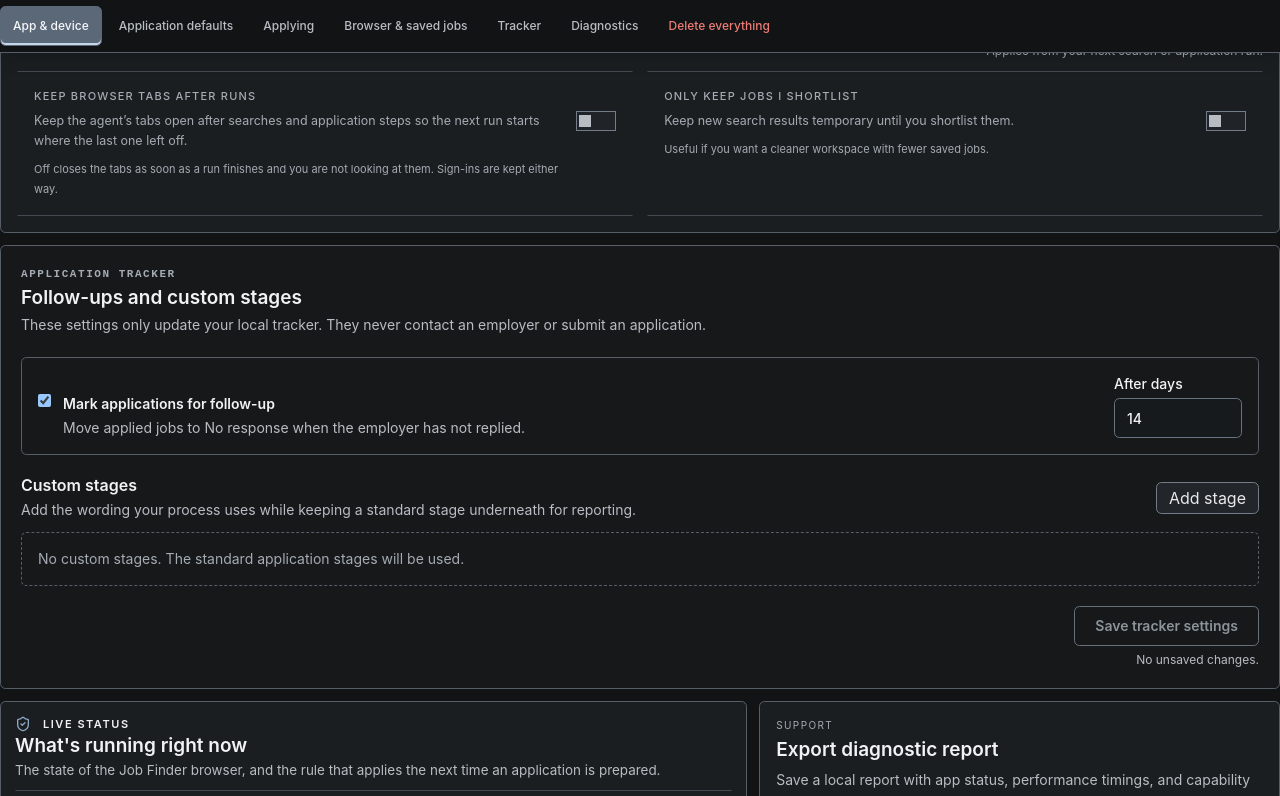
Test: Settings save ownership › links the Tracker section into the same save ownership as every other section
(page scrolled)
Click the checkbox labelled "Mark applications for follow-up": point(44, 401) [38,394,51,407]
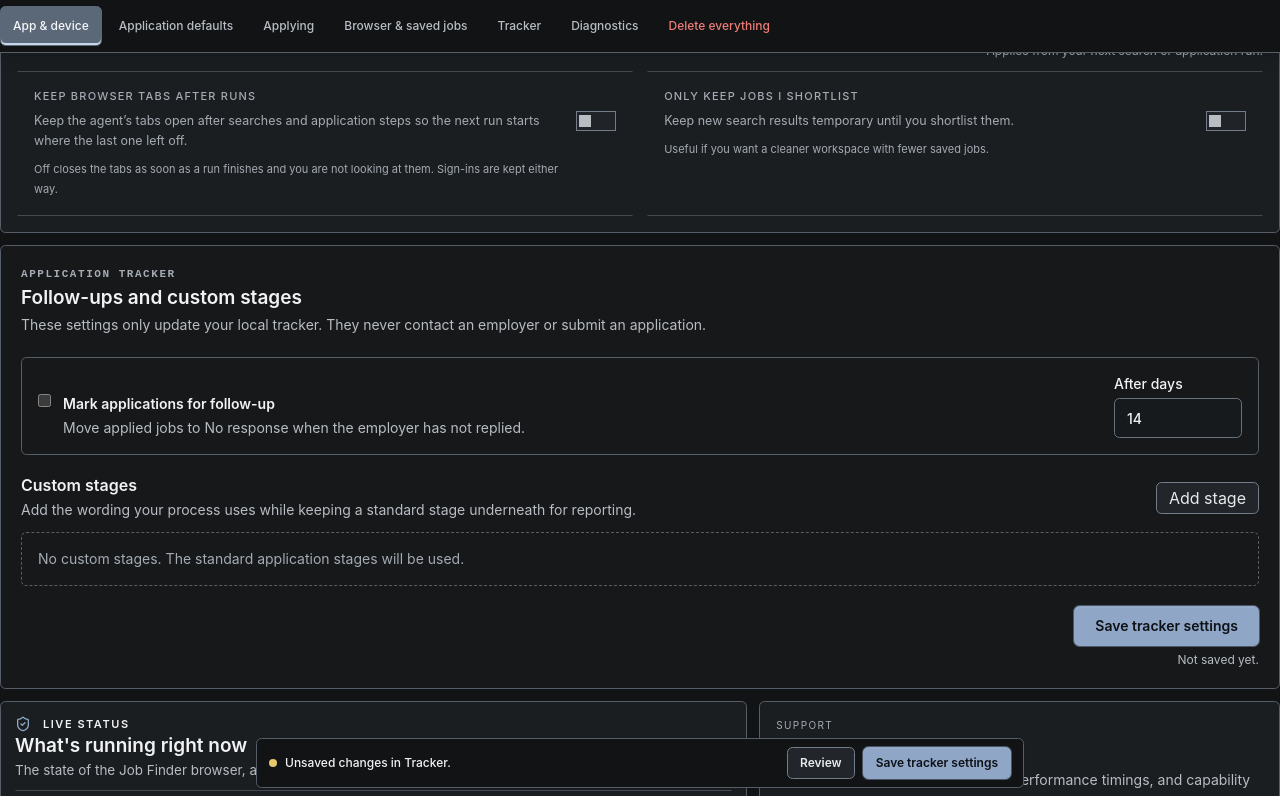
Expected: the message "Unsaved changes in Tracker. Review Save tracker settings" is shown, [256,738,1024,788]
Click the button "Save tracker settings" in the row of "Unsaved changes in Tracker.": point(937, 763) [863,747,1011,779]
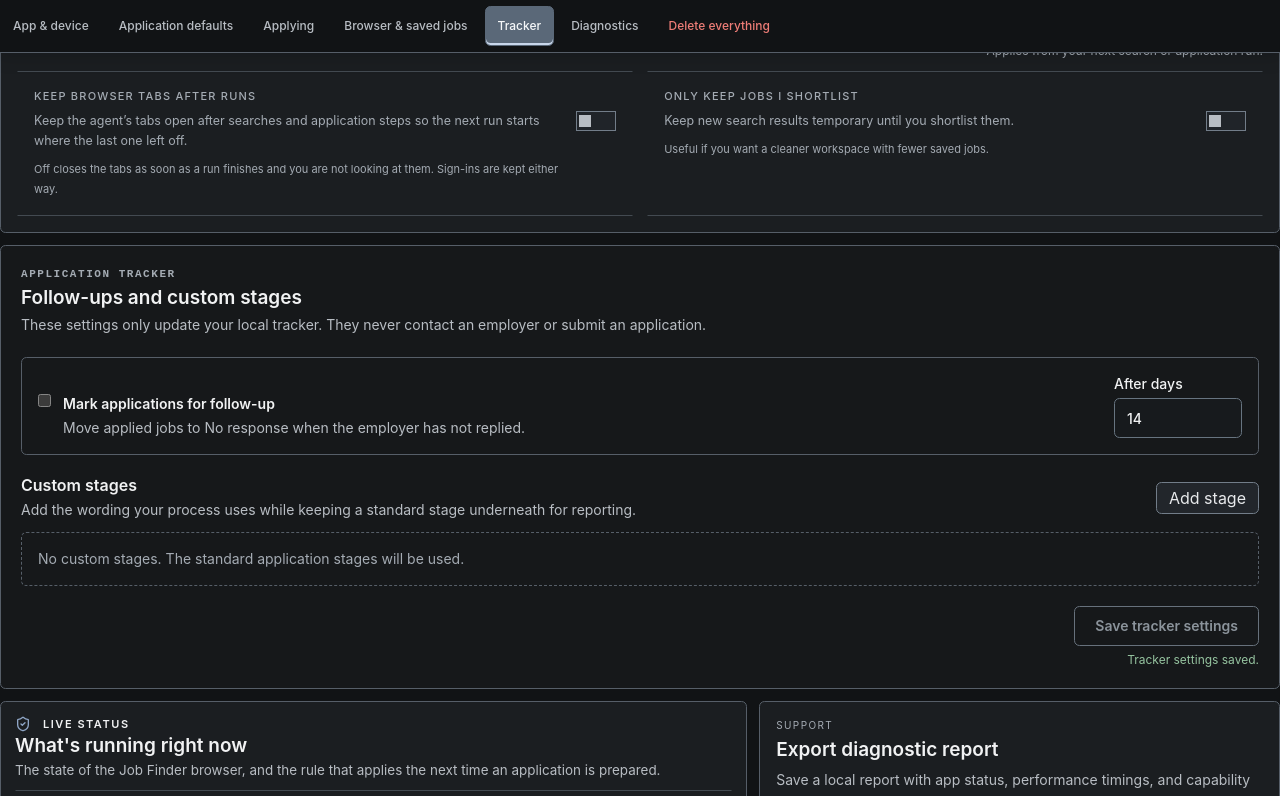
Expected: the text "Tracker settings saved." is shown, [1127,652,1259,668]
